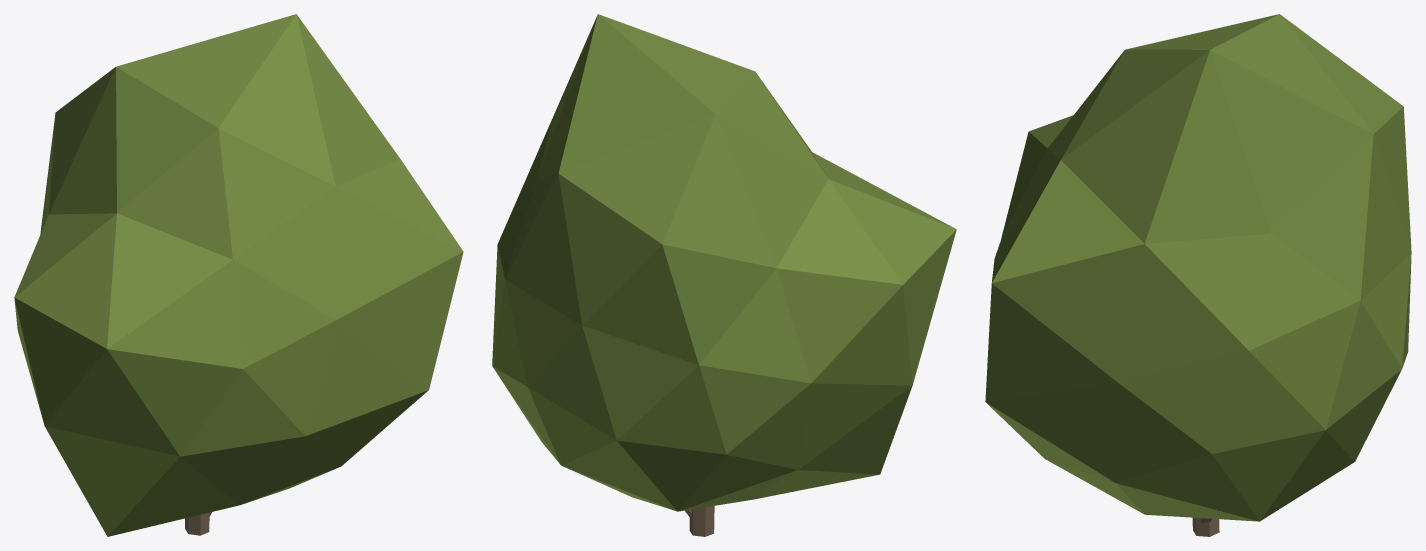
File: Foliage_Bush_2.fbx
3 views of the same model, side by side, from view 1: azimuth 30°, elevation 25°; view 2: azimuth 150°, elevation 25°; view 3: azimuth 270°, elevation 25° (orthographic). The views are drawn at different scales.
Parts seen in each view (by area): view 1: Cylinder.004; view 2: Cylinder.004; view 3: Cylinder.004.
Part boxes in pixels (box(x1,y1,x2,y2)): Cylinder.004: box(14, 14, 463, 536); Cylinder.004: box(492, 14, 956, 536); Cylinder.004: box(985, 14, 1411, 536).
Bounding box in the file's own units: 77.47 × 97.06 × 69.94.
